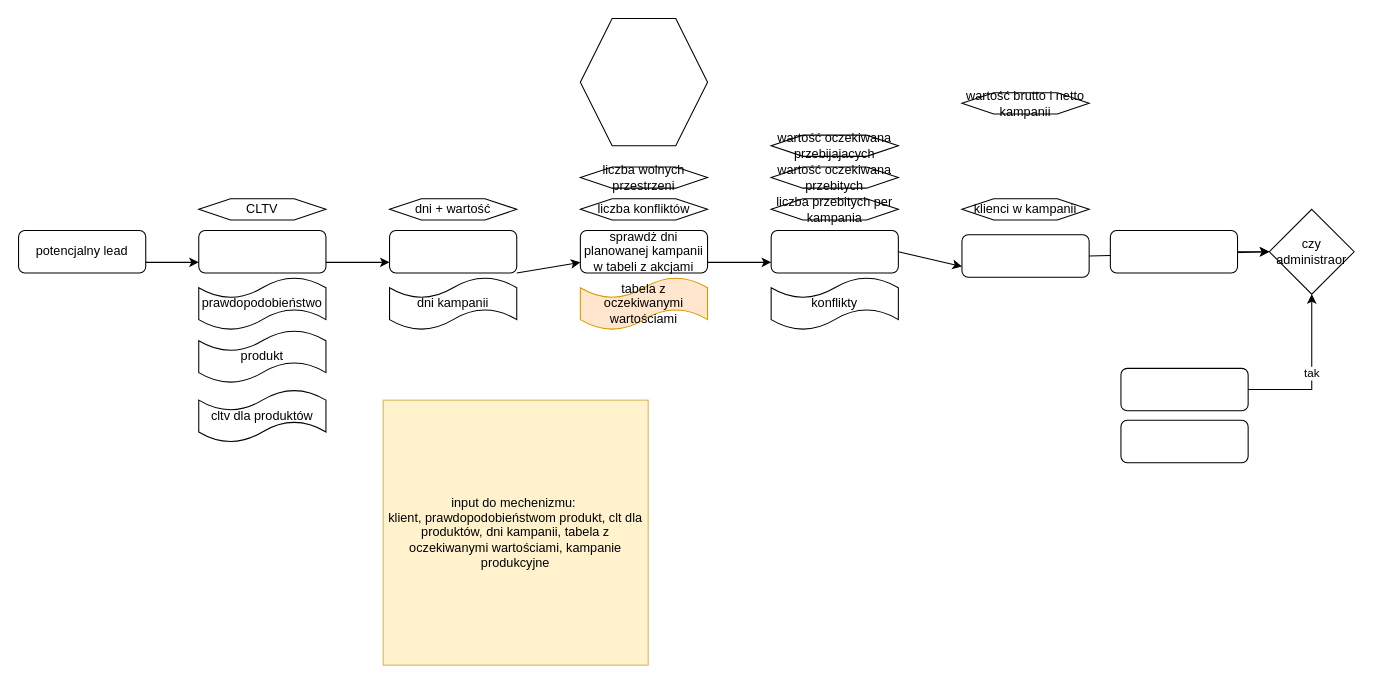
Image size: 1373x684. Some labels were removed from this diagram. The centre of each missing label's shape, as x and y in pixels:
analizuj konflikty: point (834, 251)
czy zapisać jako produkcyjna: point (1184, 441)
konflikty [nazwa_akcji, wartość oczekiwana , dzień, czy przebijalny]: point (643, 81)
nadpidsz plan kampanii?: point (1184, 389)
polacz dane bez konfliktow i konfliktow: point (1025, 255)
policz wartość oczekiwana z akcji: point (262, 251)
powiaz dni planowanej kampanii z wartością ocz.: point (452, 251)
wyswietl dane: point (1173, 251)
